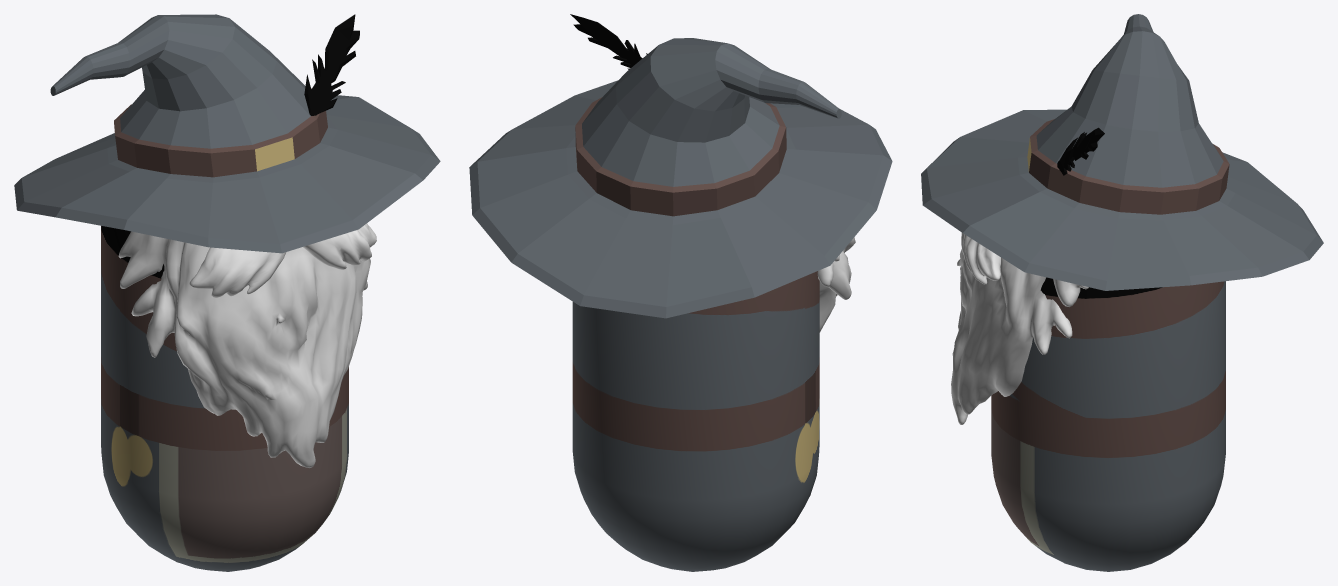
File: BlueCharacter.fbx
3 views of the same model, side by side, from view 1: azimuth 30°, elevation 25°; view 2: azimuth 150°, elevation 25°; view 3: azimuth 270°, elevation 25° (orthographic). The views are drawn at different scales.
Visible parts, largest first — view 1: Sombrero, personaje, 000_Sphere.003_Mustache_0.001; view 2: Sombrero, personaje, 000_Sphere.003_Mustache_0.001; view 3: Sombrero, personaje, 000_Sphere.003_Mustache_0.001.
Part boxes in pixels (box(x1,y1,x2,y2)): Sombrero: box(14, 14, 440, 253); personaje: box(101, 226, 348, 571); 000_Sphere.003_Mustache_0.001: box(118, 223, 376, 467); Sombrero: box(469, 14, 892, 318); personaje: box(572, 271, 819, 571); 000_Sphere.003_Mustache_0.001: box(817, 237, 855, 332); Sombrero: box(921, 14, 1323, 290); personaje: box(991, 277, 1225, 571); 000_Sphere.003_Mustache_0.001: box(951, 232, 1088, 424).
Size of the model in its own units: 171 by 240 by 172.
